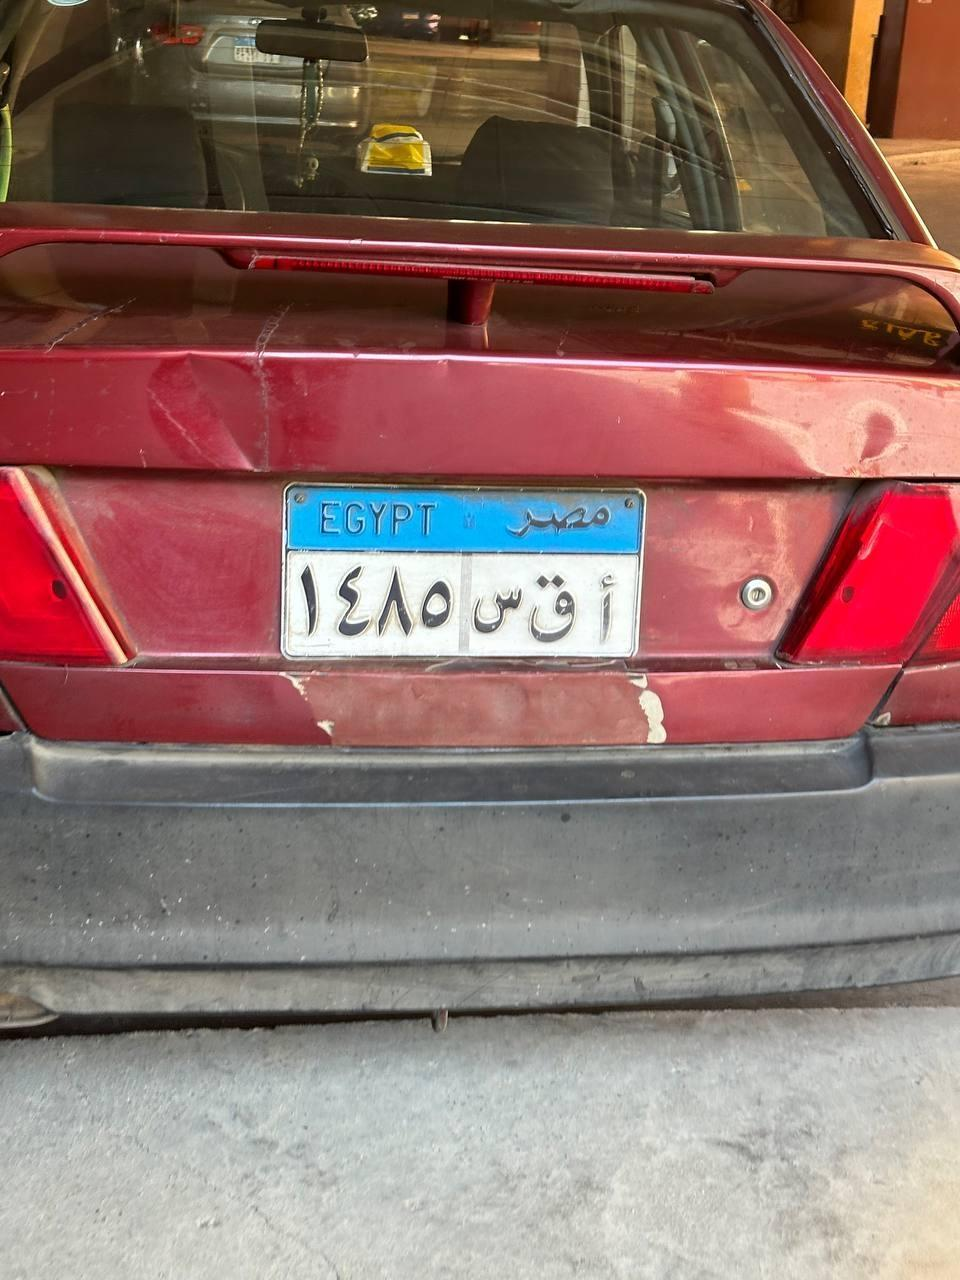1: (298, 562, 324, 638)
4: (330, 564, 372, 640)
5: (419, 582, 452, 628)
8: (372, 568, 414, 636)
License Plate: (289, 478, 646, 668)
Q: (522, 572, 584, 644)
Seen: (472, 584, 521, 634)
alef: (591, 568, 617, 642)
